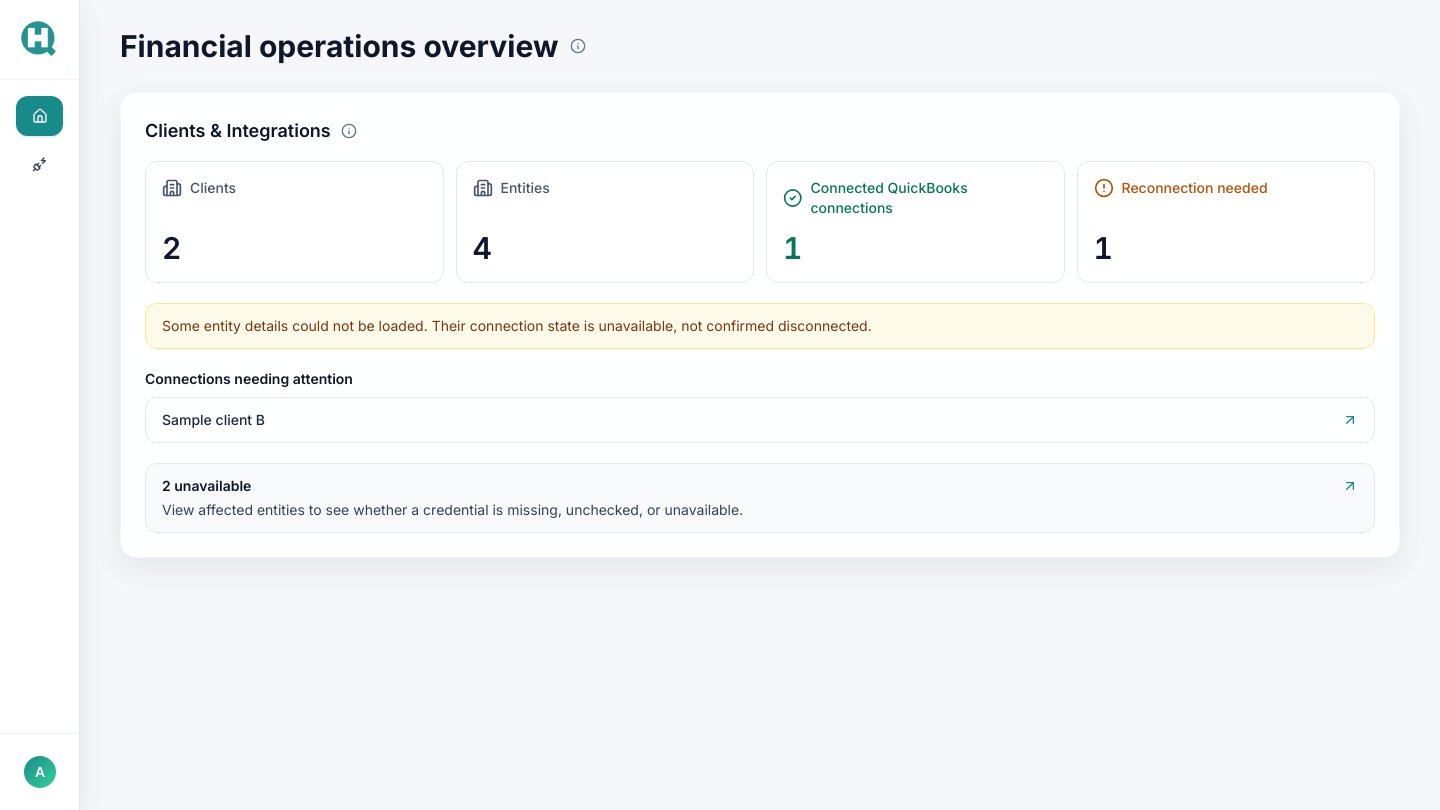
Dashboard › shows saved operational data without duplicate client-list links or false live status
Expected: the link named "overview" is shown, [16,96,63,136]
Expected: the heading "Financial operations overview" is shown, [120,28,558,64]
Focus the button named "About financial operations overview": (578, 46) [566,34,590,58]
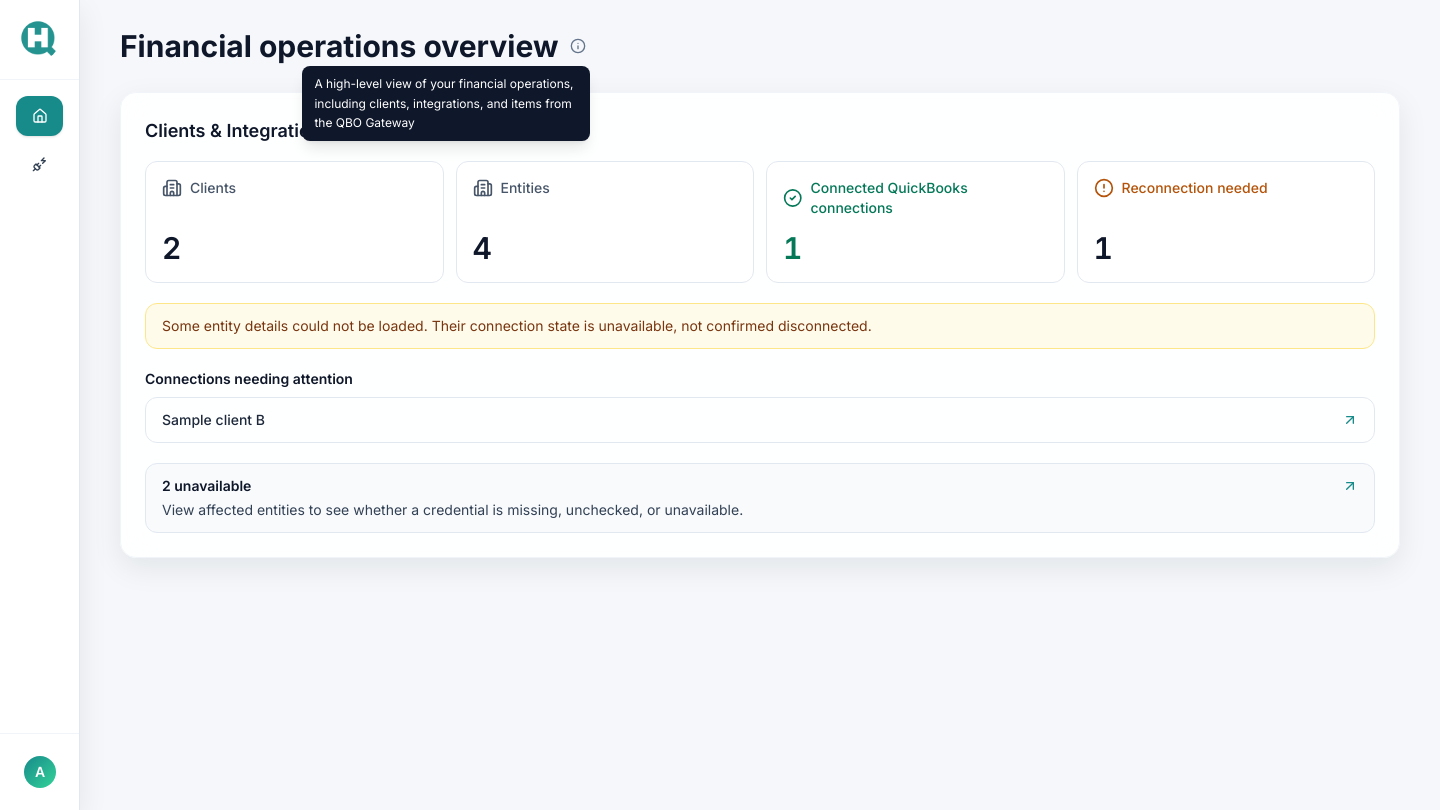
Result: the tooltip shows "A high-level view of your financial operations, including clients, integrations, and items from the QBO Gateway" at [314,76,574,130]
Leave the button named "About financial operations overview", box [566,34,590,58]
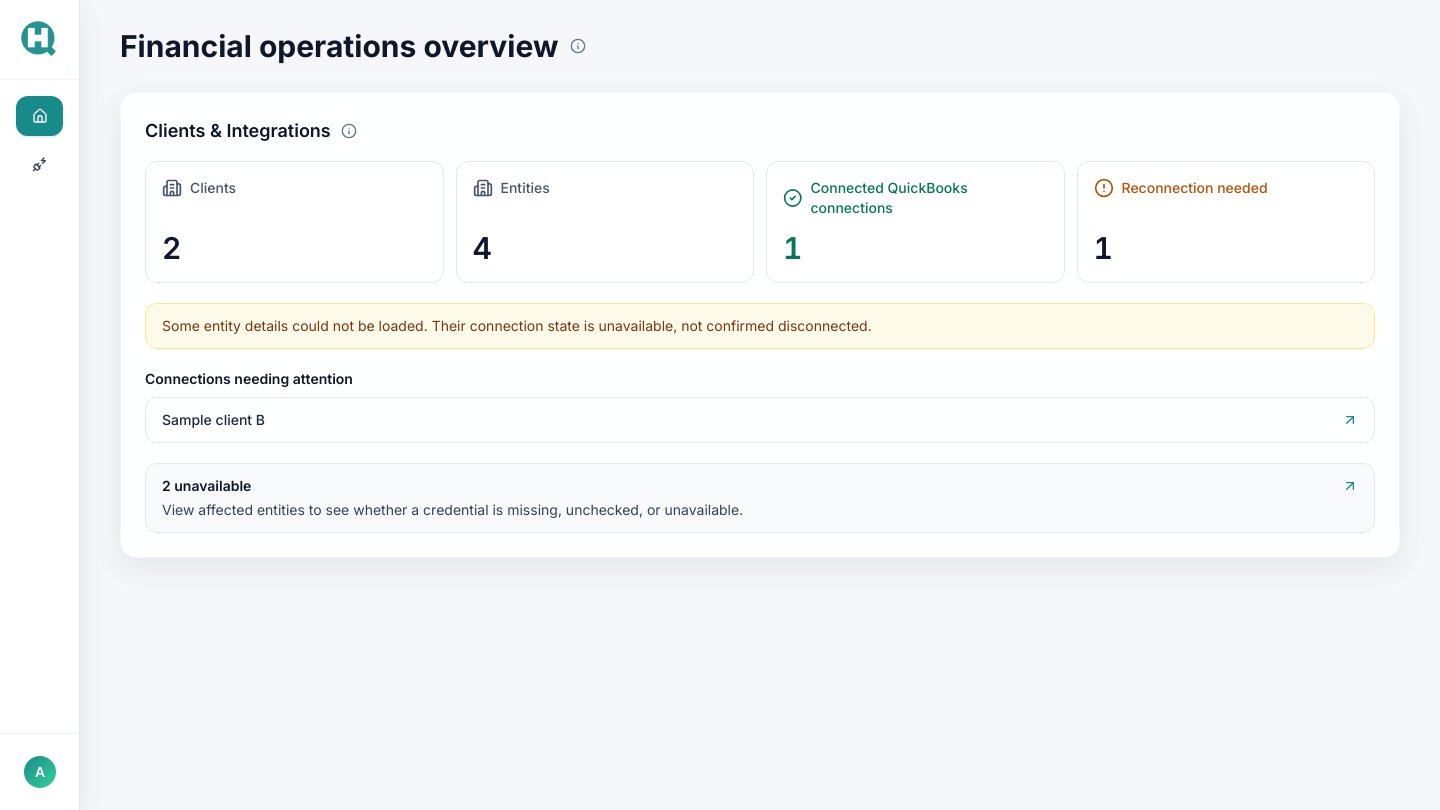
Focus the button named "About connection results": (349, 131) [337,119,361,143]
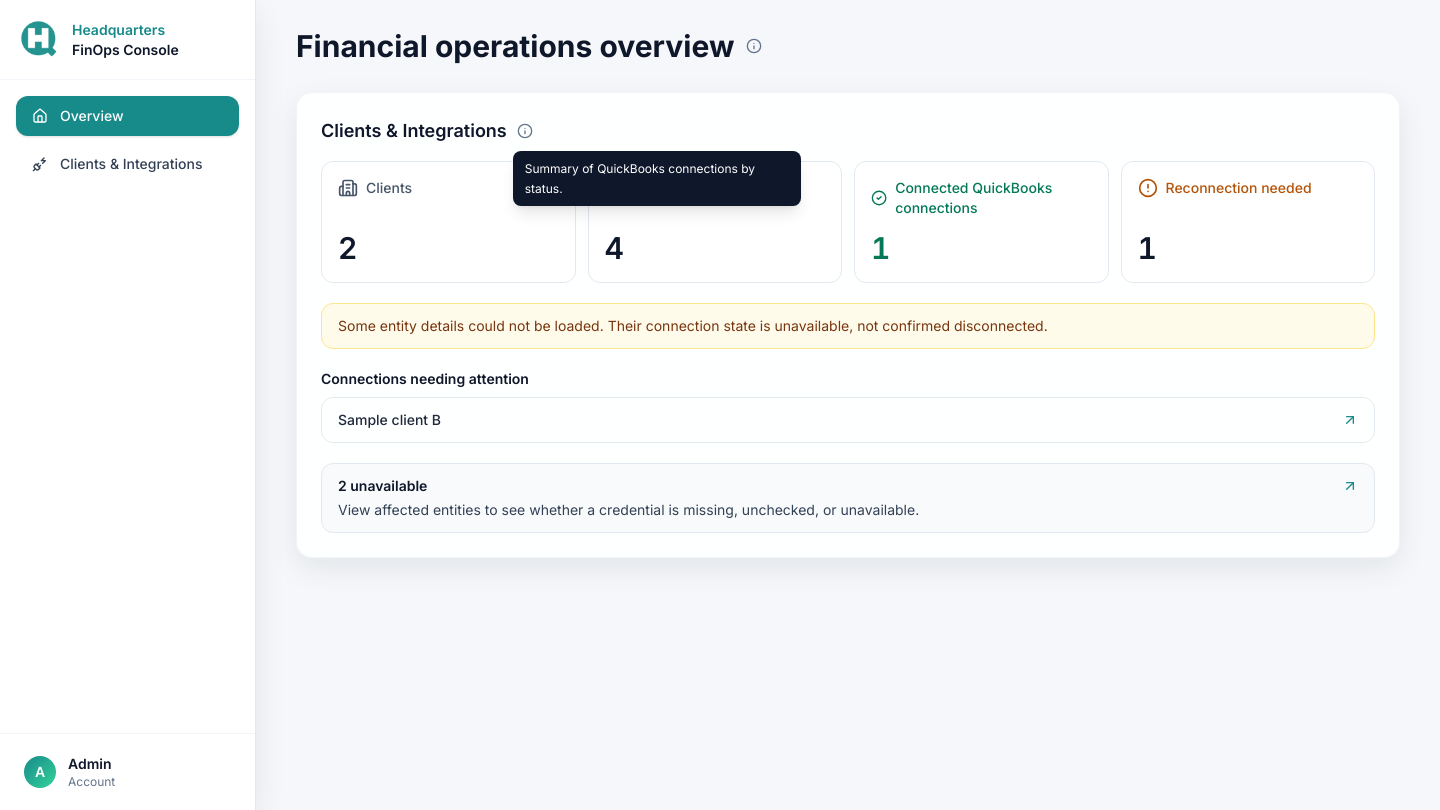
Result: the tooltip reads "Summary of QuickBooks connections by status." at [525,161,755,196]
